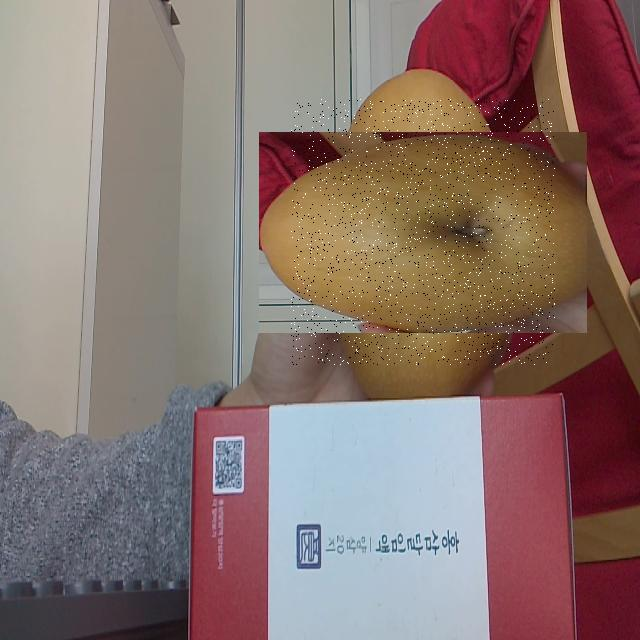pear: (291, 99, 555, 365)
